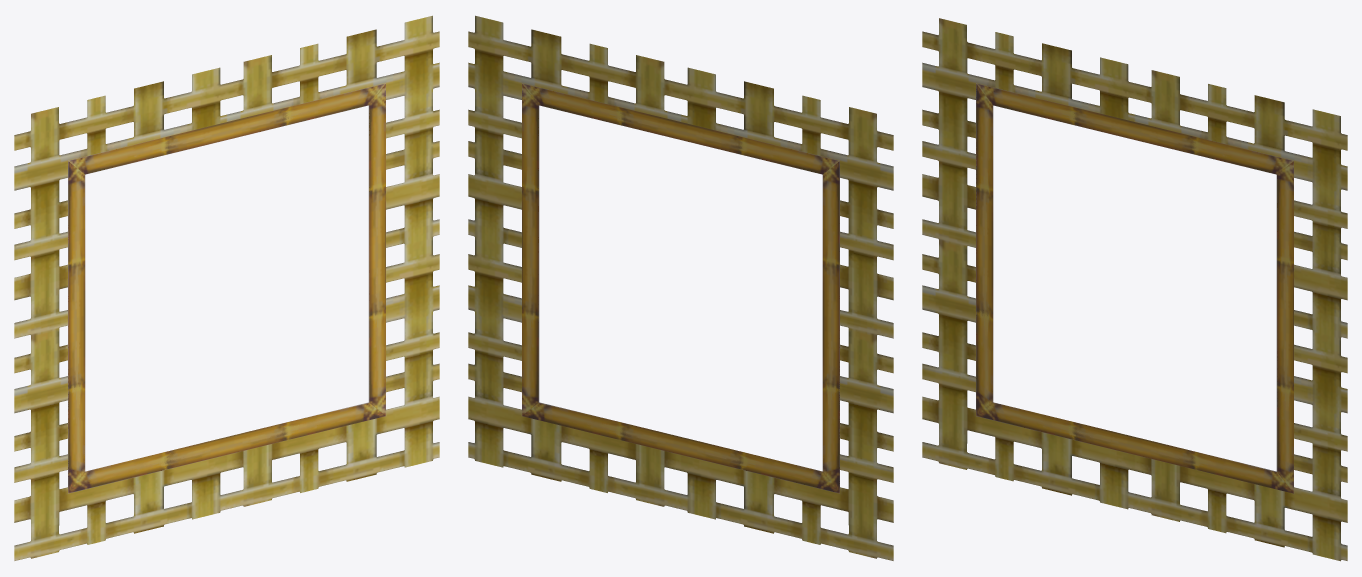
The model's file is bamboofence_revolve_outer.dae.
The picture shows the model from 3 angles, left to right: view 1: azimuth 30°, elevation 25°; view 2: azimuth 150°, elevation 25°; view 3: azimuth 330°, elevation 25°; orthographic projection.
Visible parts, largest first — view 1: m0, m1; view 2: m0, m1; view 3: m0, m1.
Boxes of the visible parts, x1,y1,x2,y2 form: m0: (14,15,439,560); m1: (68,83,385,493); m0: (468,15,893,560); m1: (522,83,839,493); m0: (922,18,1347,561); m1: (976,83,1293,493).
Bounding box in the file's own units: 600 × 600 × 0.
Materials: 2 (2 with a texture image).
